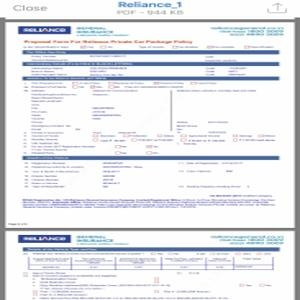image: (17, 25, 72, 37)
table: (23, 246, 281, 273)
text: (22, 82, 281, 157), (23, 159, 276, 209), (28, 65, 252, 77), (207, 25, 286, 39), (75, 25, 128, 38)
